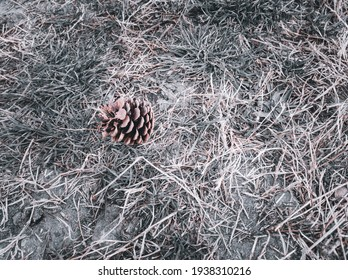Pc: (93, 96, 156, 148)
